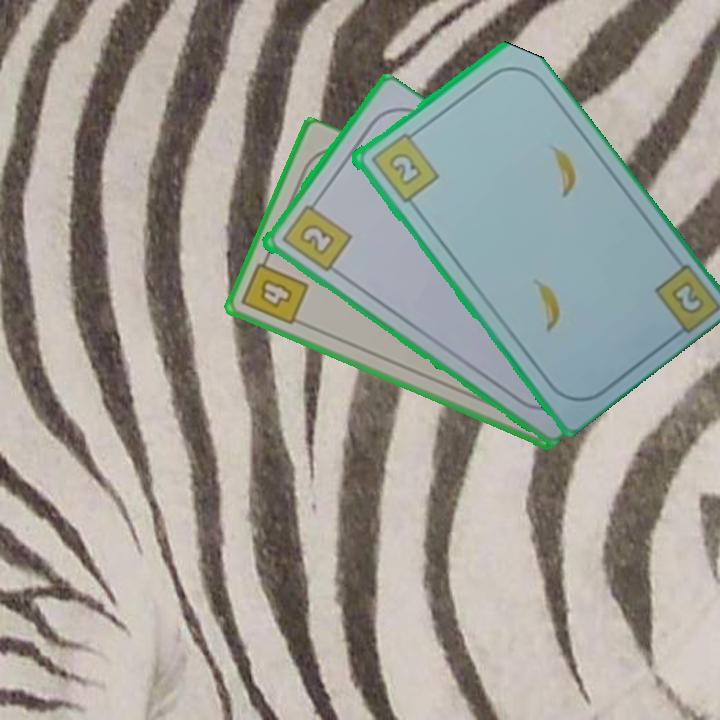2b: (278, 195, 354, 275), (366, 126, 441, 205), (667, 277, 707, 318)
4b: (238, 251, 312, 328)
